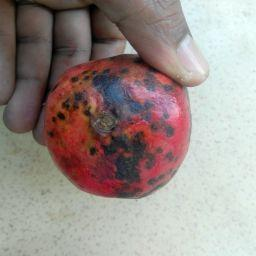pomegranate: (44, 54, 193, 199)
